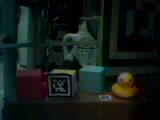duck: (106, 66, 136, 92)
